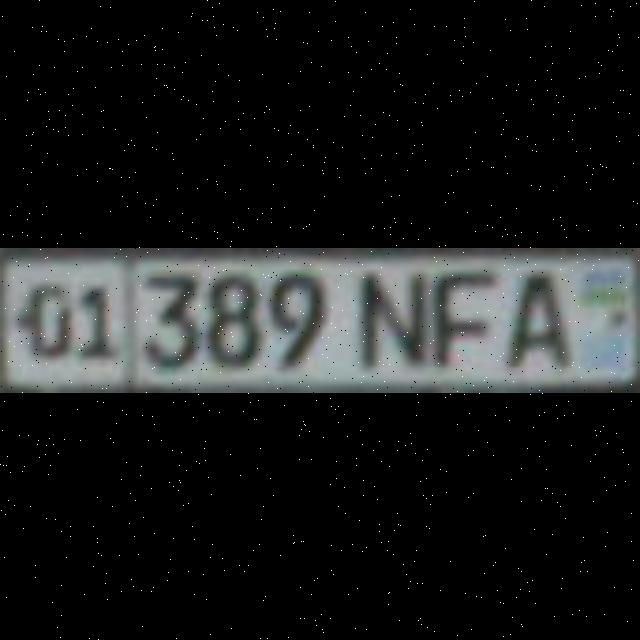0: (27, 280, 72, 352)
1: (72, 280, 112, 356)
3: (135, 269, 195, 363)
8: (202, 269, 258, 363)
9: (266, 270, 322, 366)
A: (505, 270, 565, 366)
F: (426, 269, 490, 363)
N: (359, 269, 423, 363)
